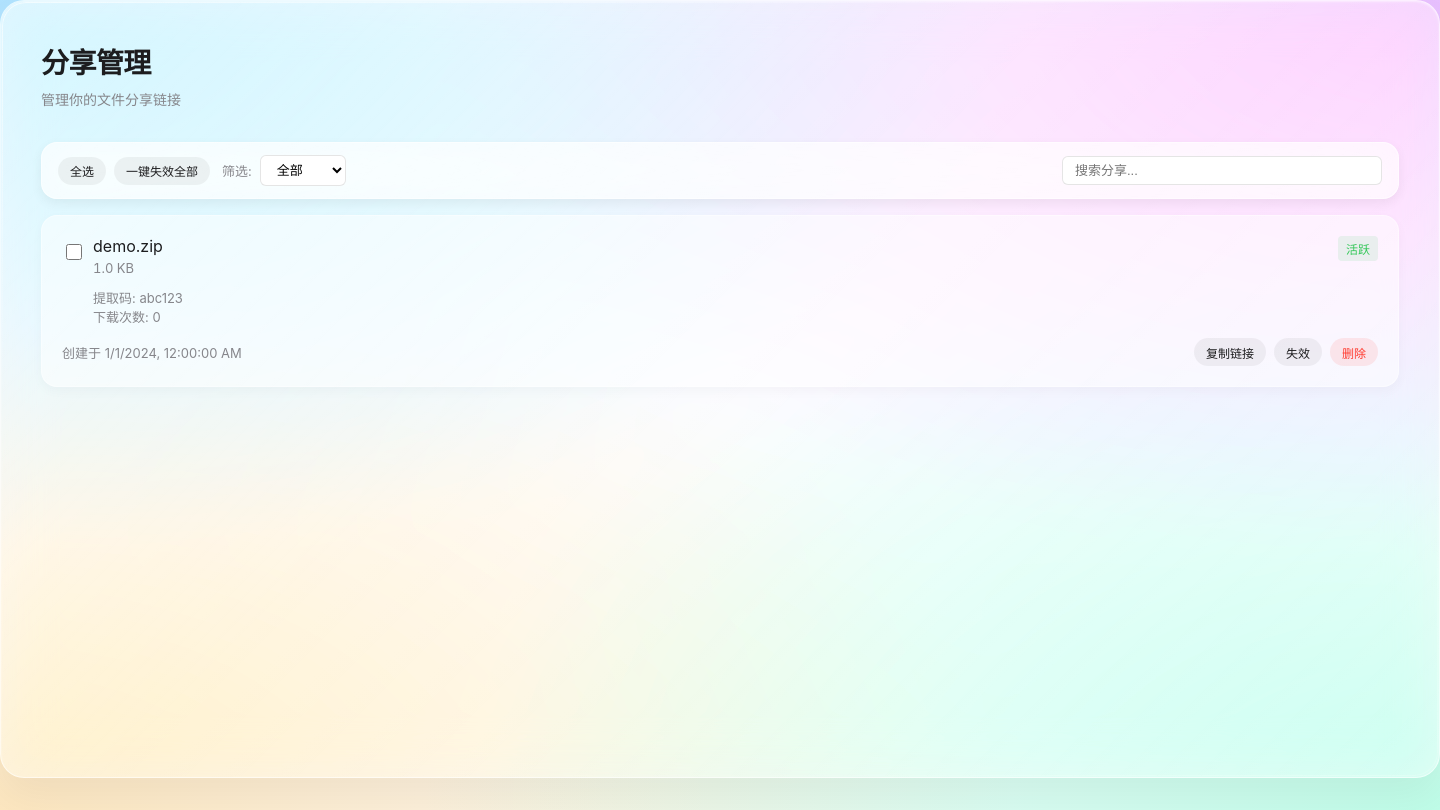
Test: SharesPage › toggling a record checkbox selects it
Expected: the text "demo.zip" is shown, [93, 236, 163, 256]
What coordinates should you click on to do the following:
click the checkbox named "选择分享 demo.zip"
I would click on:
 (74, 252)
Its box is [66, 244, 82, 260].
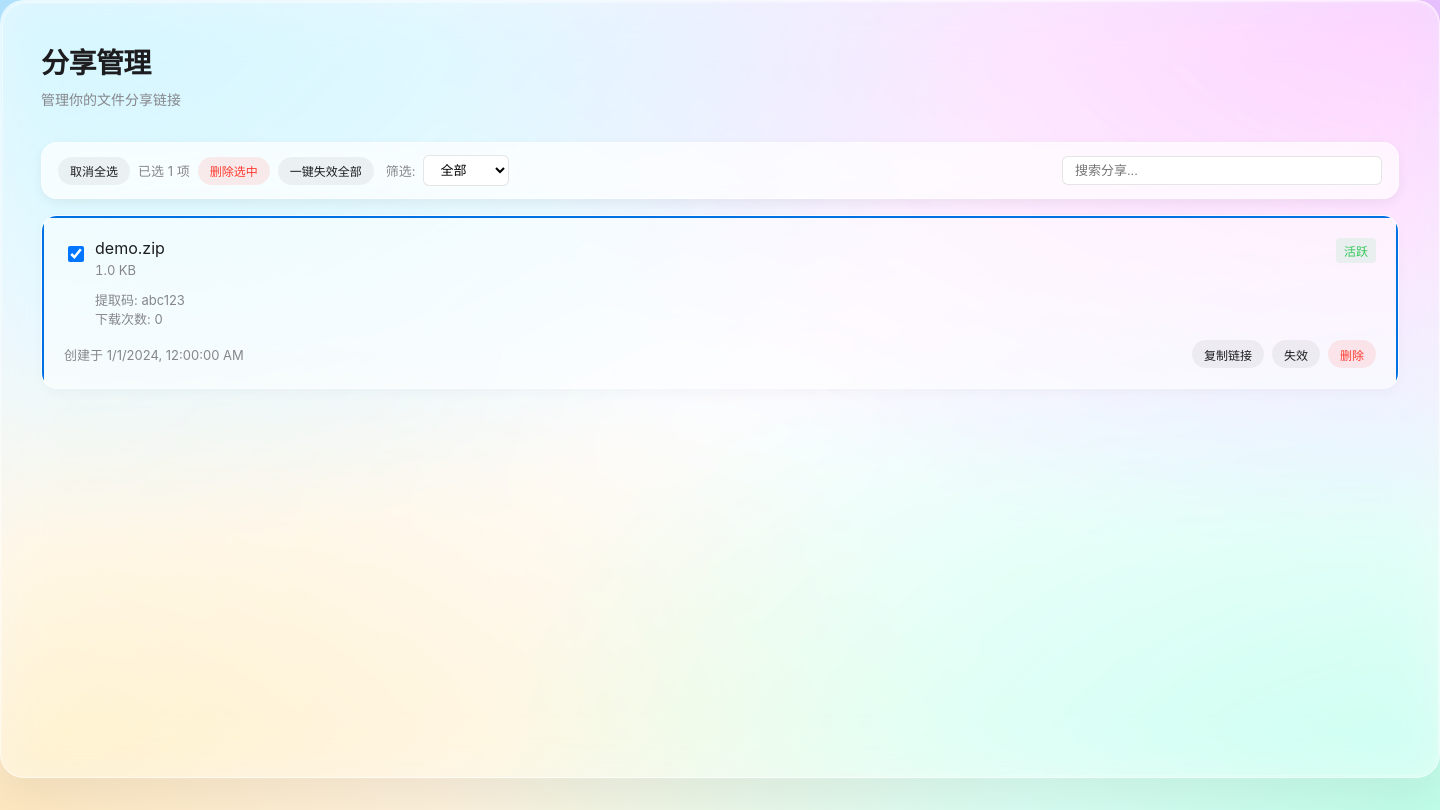
Expected: the text "已选 1 项" is shown, [138, 161, 190, 180]
